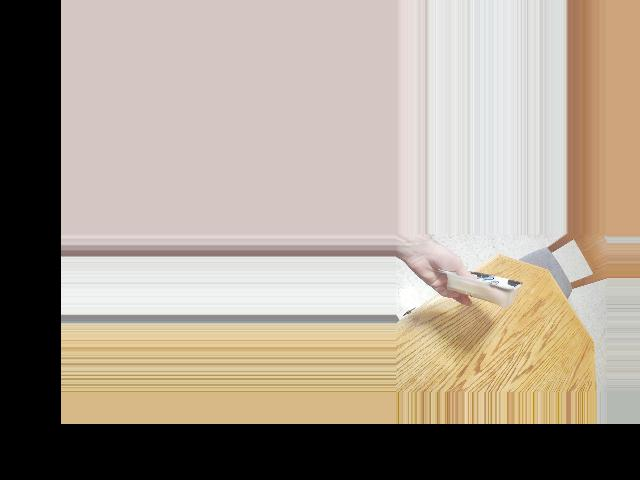cheese: (445, 252, 518, 315)
